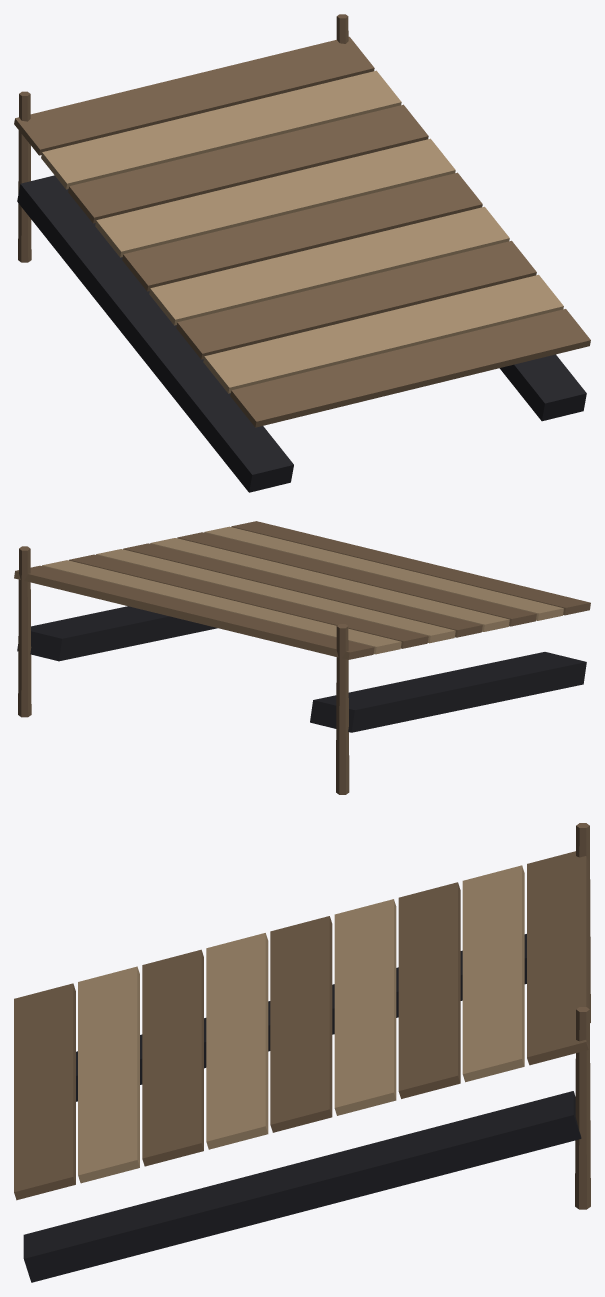
Rendered from Ski_Ramp.glb.
The picture shows the model from 3 angles, top to bottom: view 1: azimuth 30°, elevation 25°; view 2: azimuth 150°, elevation 25°; view 3: azimuth 270°, elevation 25°; orthographic projection. The views are drawn at different scales.
Parts seen in each view (by area): view 1: Ski_Ramp; view 2: Ski_Ramp; view 3: Ski_Ramp.
Part boxes in pixels (x1,y1,x2,y2): Ski_Ramp: (14, 14, 590, 492); Ski_Ramp: (14, 521, 590, 794); Ski_Ramp: (14, 823, 590, 1282).
Bounding box in the file's own units: 4 × 2.59 × 5.04.
